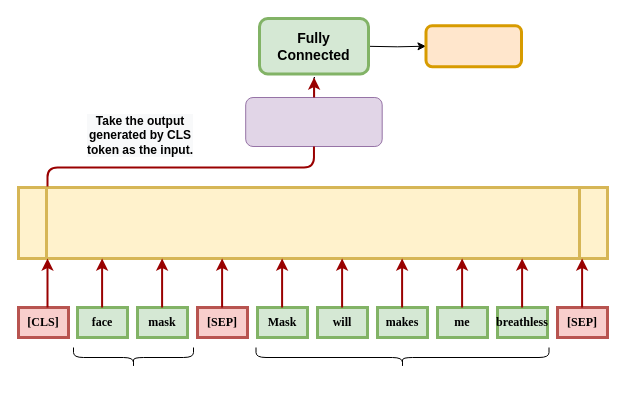
This 626x405 diagram has some shape labels left out. Here are the shapes that lost their labels. From the top down, the centre of each, then its label:
At (473,46): "Stance".
At (313,121): "Hidden".
At (312,223): "1. BERT 2. BigBird 3. RoBERTa 4. Longformer".
At (133,357): "Target".
At (402,357): "Claim".
